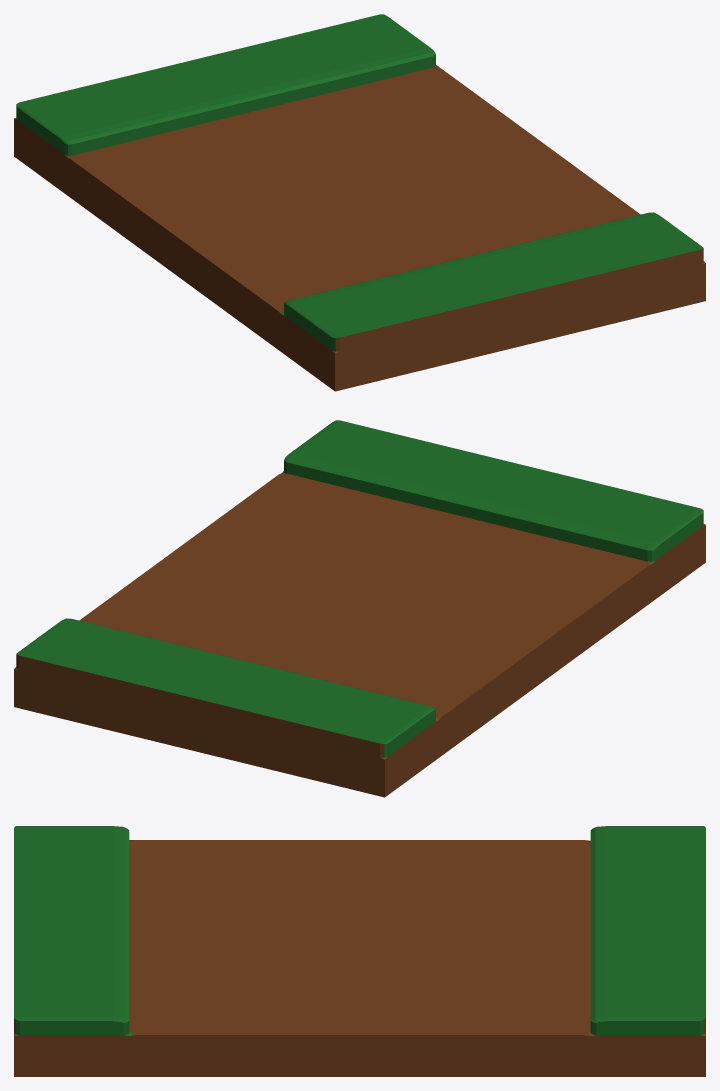
Rendered from dirttile1.glb.
The picture shows the model from 3 angles, top to bottom: view 1: azimuth 30°, elevation 25°; view 2: azimuth 150°, elevation 25°; view 3: azimuth 270°, elevation 25°; orthographic projection. The views are drawn at different scales.
Visible parts, largest first — view 1: road1.001; view 2: road1.001; view 3: road1.001.
Boxes of the visible parts, x1,y1,x2,y2 form: road1.001: (14, 14, 705, 391); road1.001: (14, 420, 705, 797); road1.001: (14, 826, 705, 1076).
Size of the model in its own units: 2 by 0.2721 by 3.
